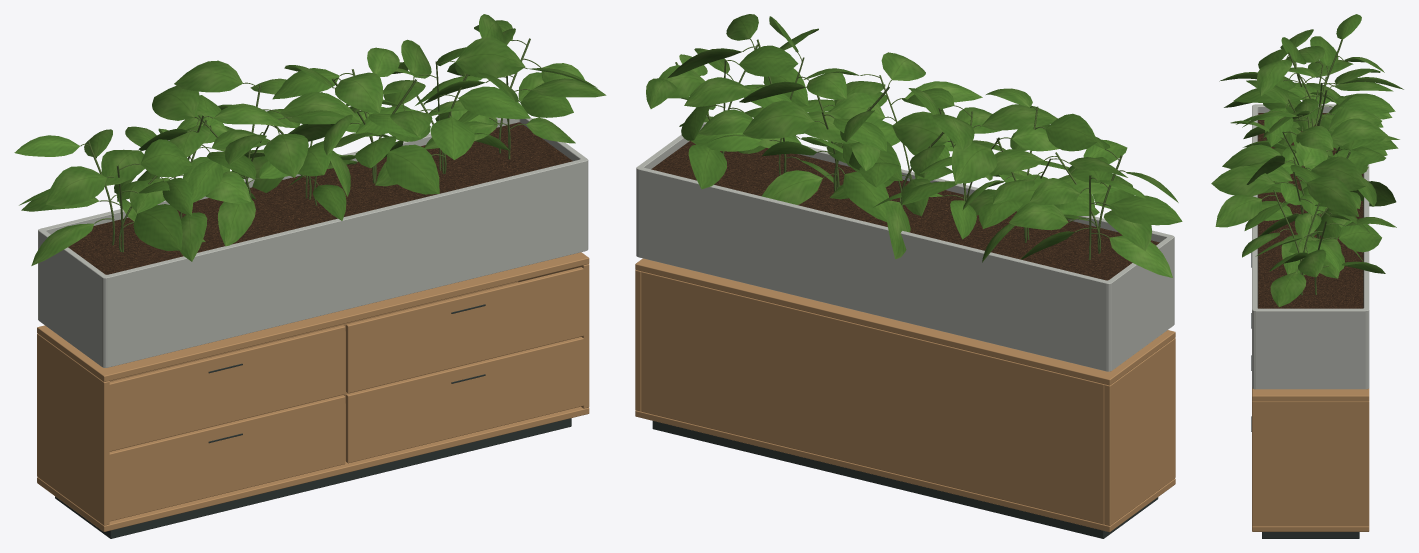
File: botanicalDivider-11.glb
3 renders of one model, left to right at view 1: azimuth 30°, elevation 25°; view 2: azimuth 150°, elevation 25°; view 3: azimuth 270°, elevation 25°, orthographic. The views are drawn at different scales.
Parts seen in each view (by area): view 1: StoragePlanter_Drawer (×4), Planter_pothos_leaves, Planter_oiled_oak, Planter_loose_soil, StoragePlanter_Side (×2), StoragePlanter_Top, StoragePlanter_Bottom, StoragePlanter_Plinth, Planter_pothos_stems, Planter_matte_accent, StoragePlanter_Back; view 2: StoragePlanter_Back, Planter_pothos_leaves, Planter_oiled_oak, Planter_loose_soil, StoragePlanter_Side (×2), StoragePlanter_Top, StoragePlanter_Plinth, Planter_matte_accent, StoragePlanter_Bottom, Planter_pothos_stems; view 3: Planter_pothos_leaves, StoragePlanter_Side, Planter_oiled_oak, Planter_loose_soil, Planter_pothos_stems, StoragePlanter_Top, StoragePlanter_Bottom, StoragePlanter_Plinth.
Part boxes in pixels (x1,y1,x2,y2): StoragePlanter_Drawer (×4): [106, 267, 587, 521]; Planter_pothos_leaves: [14, 14, 606, 265]; Planter_oiled_oak: [38, 117, 588, 367]; Planter_loose_soil: [68, 122, 572, 274]; StoragePlanter_Side (×2): [37, 264, 589, 525]; StoragePlanter_Top: [37, 252, 589, 381]; StoragePlanter_Bottom: [37, 403, 589, 531]; StoragePlanter_Plinth: [55, 418, 571, 538]; Planter_pothos_stems: [80, 38, 541, 252]; Planter_matte_accent: [113, 225, 577, 340]; StoragePlanter_Back: [109, 281, 518, 402]; StoragePlanter_Back: [641, 271, 1104, 524]; Planter_pothos_leaves: [646, 14, 1182, 277]; Planter_oiled_oak: [636, 122, 1174, 371]; Planter_loose_soil: [651, 140, 1159, 280]; StoragePlanter_Side (×2): [635, 270, 1175, 525]; StoragePlanter_Top: [635, 258, 1175, 385]; StoragePlanter_Plinth: [652, 421, 1158, 538]; Planter_matte_accent: [645, 240, 1102, 352]; StoragePlanter_Bottom: [635, 410, 1175, 532]; Planter_pothos_stems: [675, 39, 1125, 259]; Planter_pothos_leaves: [1211, 14, 1403, 307]; StoragePlanter_Side: [1252, 401, 1369, 526]; Planter_oiled_oak: [1252, 104, 1369, 389]; Planter_loose_soil: [1258, 113, 1363, 308]; Planter_pothos_stems: [1262, 39, 1350, 295]; StoragePlanter_Top: [1252, 388, 1369, 401]; StoragePlanter_Bottom: [1252, 526, 1369, 531]; StoragePlanter_Plinth: [1262, 532, 1359, 538].
Size of the model in its own units: 2.26 by 1.58 by 0.7924.
Materials: 9 (2 with a texture image).
